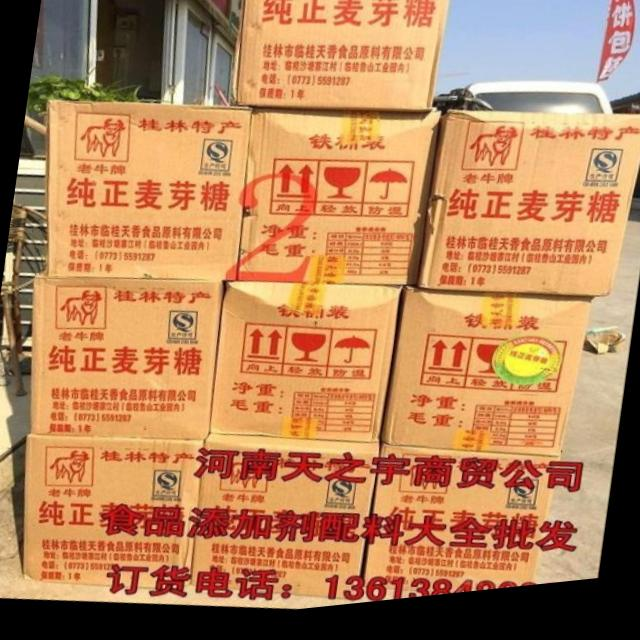box: (417, 121, 640, 309), (47, 101, 253, 285), (238, 112, 441, 296), (382, 296, 591, 468), (30, 268, 221, 444), (186, 441, 378, 606), (210, 287, 402, 451), (23, 432, 204, 593), (363, 456, 557, 602), (231, 0, 451, 121)
